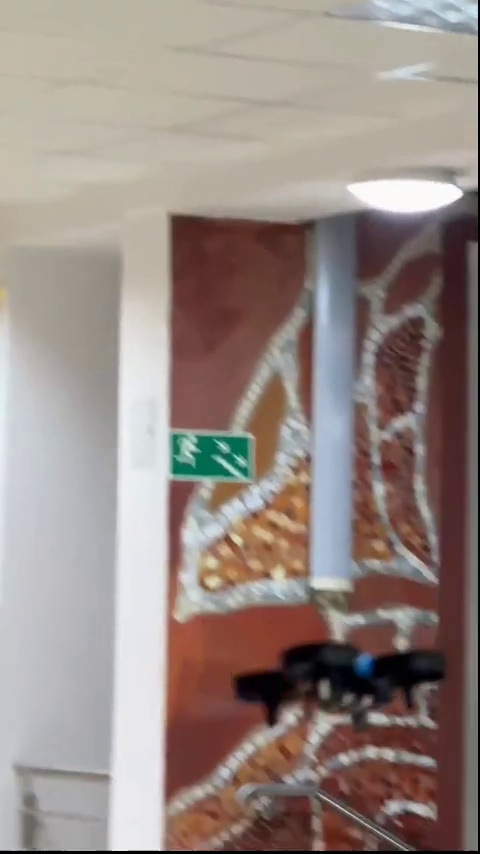drone: (228, 642, 447, 720)
